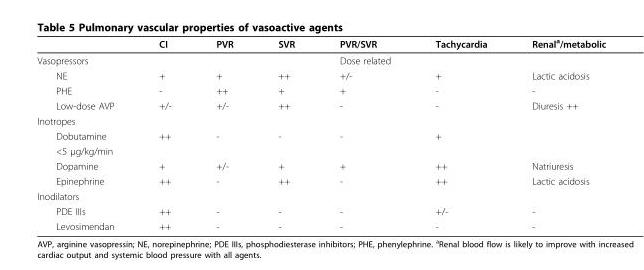table: (36, 36, 605, 231)
table column: (36, 36, 135, 231), (508, 36, 605, 231), (316, 36, 412, 231), (412, 36, 508, 231), (193, 36, 255, 231), (255, 36, 316, 231), (135, 36, 193, 231)
table column header: (36, 36, 605, 51)
table projected row header: (36, 113, 605, 128), (36, 143, 605, 158), (36, 188, 605, 203)
table row: (36, 51, 605, 67), (36, 97, 605, 113), (36, 36, 605, 51), (36, 67, 605, 82), (36, 82, 605, 97), (36, 113, 605, 128), (36, 128, 605, 143), (36, 143, 605, 158), (36, 158, 605, 173), (36, 173, 605, 188), (36, 188, 605, 203), (36, 203, 605, 218), (36, 218, 605, 231)
